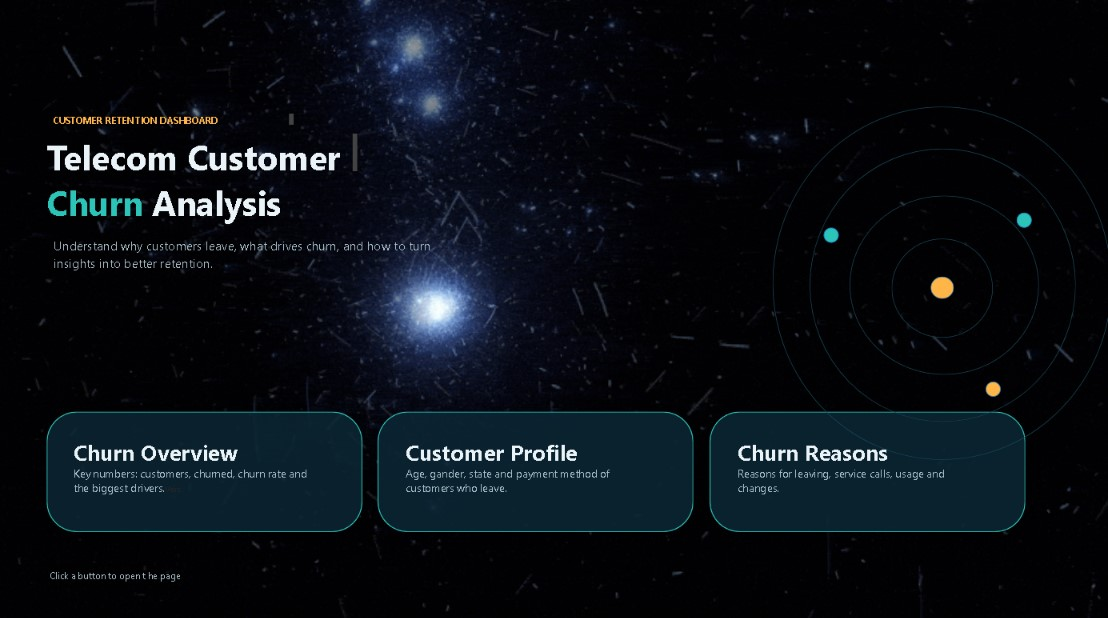

Layout of this report page (visuals, bound fields, positions):
{"tool":"powerbi","page":{"name":"Home","canvas":[1920,1080],"ordinal":0},"visuals":[{"type":"shape","box":[1226.2,713.4,544.2,207.6],"z":0},{"type":"textbox","box":[95.9,200.6,413.4,20.9],"z":1000},{"type":"shape","box":[654.1,713.4,544.2,207.6],"z":2000},{"type":"textbox","box":[64.5,233.7,556.4,80.2],"z":3000},{"type":"shape","box":[83.7,713.4,544.2,207.6],"z":4000},{"type":"shape","box":[1336.1,188.4,584.3,608.7],"z":5000,"group":"g1"},{"type":"textbox","box":[83.7,314,425.6,83.7],"z":5000},{"type":"shape","box":[1400.6,259.9,458.7,470.9],"z":6000,"group":"g1"},{"type":"textbox","box":[95.9,411.6,652.3,75],"z":6000},{"type":"shape","box":[1468.7,341.9,326.2,308.7],"z":7000,"group":"g1"},{"type":"textbox","box":[83.7,983.7,235.5,33.1],"z":7000},{"type":"group","id":"g1","title":"Group 1","box":[1336.1,188.4,584.3,608.7],"z":8000},{"type":"shape","box":[1541.9,415.1,174.4,170.9],"z":8000,"group":"g1"},{"type":"shape","box":[1608.2,481.4,40.1,38.4],"z":9000,"group":"g1"},{"type":"textbox","box":[1275,758.7,413.4,118.6],"z":9000},{"type":"shape","box":[1702.4,662.8,26.2,26.2],"z":10000,"group":"g1"},{"type":"textbox","box":[702.9,758.7,397.7,118.6],"z":10000},{"type":"shape","box":[1756.5,371.5,26.2,26.2],"z":11000,"group":"g1"},{"type":"textbox","box":[130.8,758.7,434.3,148.3],"z":11000},{"type":"shape","box":[1423.3,397.7,26.2,26.2],"z":12000,"group":"g1"},{"type":"actionButton","box":[83.7,713.4,544.2,207.6],"z":12000},{"type":"actionButton","box":[653.2,713.7,544.7,206.6],"z":13000},{"type":"actionButton","box":[1227.1,713.7,544.7,206.6],"z":14000}]}

Visuals, with their boxes in screenshot pixels (x1, y1, x2, y2), scaled from the page's 1920x1080 canvas onto the 1108x618 screenshot:
shape: 708, 408, 1022, 527
textbox: 55, 115, 294, 127
shape: 377, 408, 692, 527
textbox: 37, 134, 358, 180
shape: 48, 408, 362, 527
shape: 771, 108, 1107, 456
textbox: 48, 180, 294, 228
shape: 808, 149, 1073, 418
textbox: 55, 236, 432, 278
shape: 848, 196, 1036, 372
textbox: 48, 563, 184, 582
"Group 1" group: 771, 108, 1107, 456
shape: 890, 238, 990, 335
shape: 928, 275, 951, 297
textbox: 736, 434, 974, 502
shape: 982, 379, 998, 394
textbox: 406, 434, 635, 502
shape: 1014, 213, 1029, 228
textbox: 75, 434, 326, 519
shape: 821, 228, 836, 243
actionButton: 48, 408, 362, 527
actionButton: 377, 408, 691, 527
actionButton: 708, 408, 1022, 527
